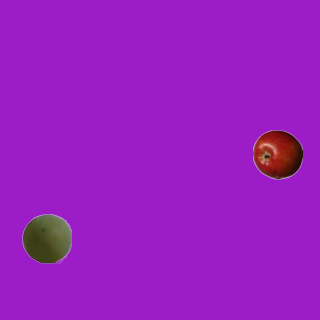Apple Braeburn: (252, 129, 302, 179)
Grape White 4: (21, 213, 71, 263)
